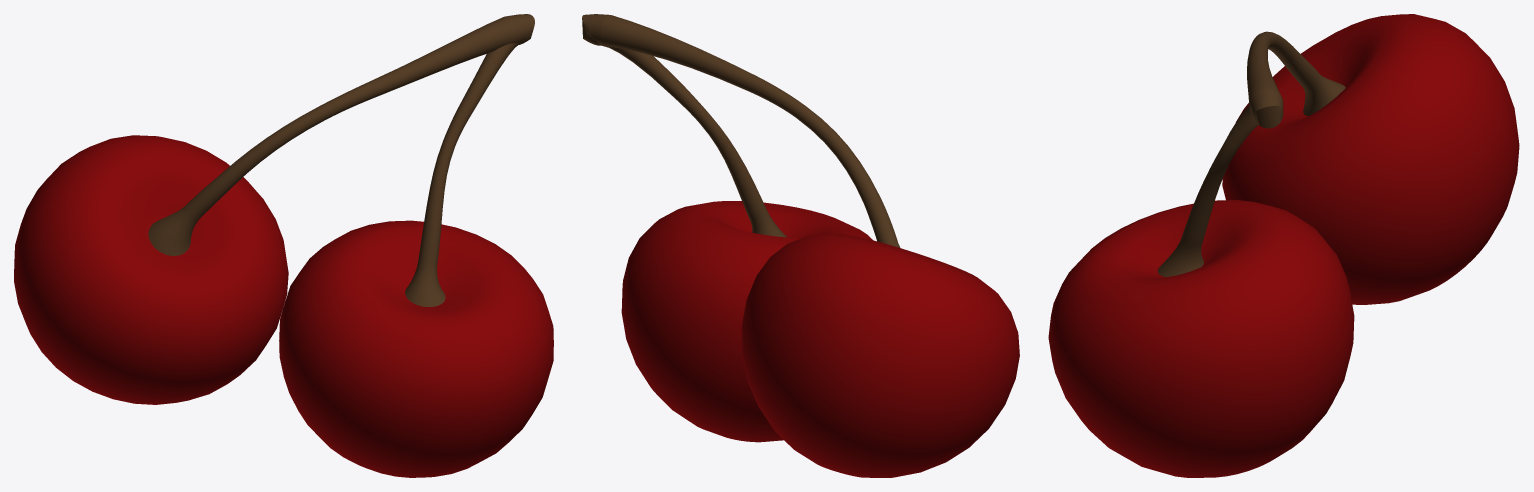
File: cherry1.obj
3 renders of one model, left to right at view 1: azimuth 30°, elevation 25°; view 2: azimuth 150°, elevation 25°; view 3: azimuth 270°, elevation 25°, orthographic. The views are drawn at different scales.
Parts seen in each view (by area): view 1: cherry2, cherry1, cherrystem; view 2: cherry2, cherry1, cherrystem; view 3: cherry1, cherry2, cherrystem.
Boxes of the visible parts, x1,y1,x2,y2 form: cherry2: (14,135,288,404); cherry1: (279,220,553,477); cherrystem: (148,14,534,306); cherry2: (741,233,1019,477); cherry1: (621,201,872,442); cherrystem: (582,14,900,247); cherry1: (1048,200,1354,477); cherry2: (1222,14,1519,304); cherrystem: (1157,31,1345,276).
Size of the model in its own units: 1 by 0.831 by 0.8043.
